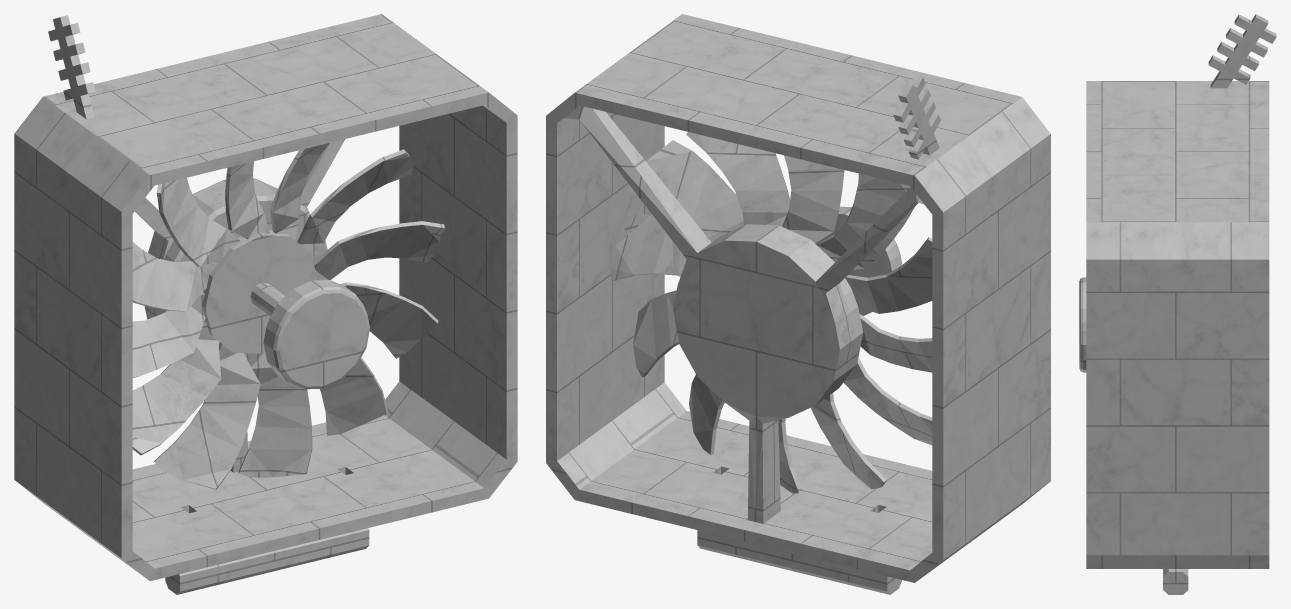
Rendered from fan2.sturdy.gltf.
The picture shows the model from 3 angles, left to right: view 1: azimuth 30°, elevation 25°; view 2: azimuth 150°, elevation 25°; view 3: azimuth 270°, elevation 25°; orthographic projection. The views are drawn at different scales.
Visible parts, largest first — view 1: comp_Fan; view 2: comp_Fan; view 3: comp_Fan.
Boxes of the visible parts, <box> form: comp_Fan: <box>14,14,517,594</box>; comp_Fan: <box>546,14,1050,594</box>; comp_Fan: <box>1079,14,1276,594</box>.
Size of the model in its own units: 1.76 by 2.37 by 0.8914.
1 material, 1 textured.
